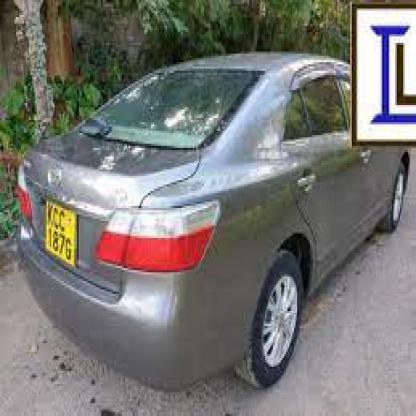car: (18, 52, 410, 392)
